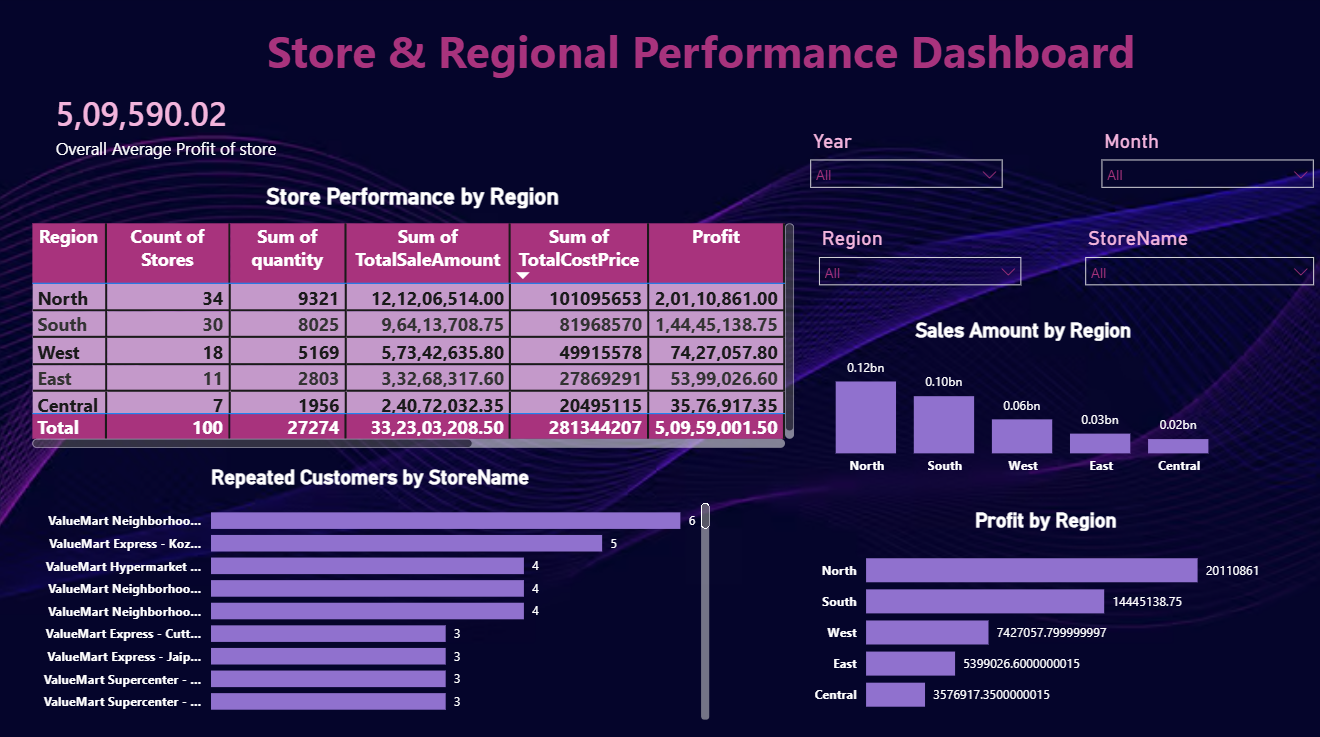

This screenshot's page, from the dashboard's own definition file:
{"tool":"powerbi","page":{"name":"Store Performance","canvas":[1280,720],"ordinal":2},"visuals":[{"type":"tableEx","title":"Store Performance by Region","fields":{"Values":["Dim_Store.Region","Measure Table.Count of Stores","Sum(Fact_Sales.quantity)","Sum(Fact_Sales.TotalSaleAmount)","Sum(Fact_Sales.TotalCostPrice)","Measure Table.Profit","Measure Table.Average Profit per Store","Measure Table.Variance %","Measure Table.Performace of stores","Measure Table.Profit%"]},"box":[27.8,181.5,746.8,260.2],"z":0},{"type":"textbox","box":[154.9,18.2,1050.5,69],"z":1000},{"type":"cardVisual","fields":{"Data":["Measure Table.Overall Average Profit of store"]},"box":[27.8,70.2,331.6,108.9],"z":2000},{"type":"slicer","fields":{"Values":["Dim_Calender.Year"]},"box":[774.6,124.7,205.8,72.6],"z":3000},{"type":"slicer","fields":{"Values":["Dim_Calender.Month"]},"box":[1055.4,124.7,225.1,69],"z":4000},{"type":"barChart","fields":{"Category":["Dim_Store.StoreName"],"Y":["Measure Table.Repeated Customers"]},"box":[27.5,453.8,665,250],"z":5000},{"type":"slicer","fields":{"Values":["Dim_Store.StoreName"]},"box":[1039.6,217.9,240.8,72.6],"z":6000},{"type":"slicer","fields":{"Values":["Dim_Store.Region"]},"box":[783.1,217.9,215.4,61.7],"z":7000},{"type":"columnChart","title":"Sales Amount by Region","fields":{"Category":["Dim_Store.Region"],"Y":["Sum(Fact_Sales.TotalSaleAmount)"]},"box":[774.6,311,432.1,159.8],"z":8000},{"type":"barChart","fields":{"Category":["Dim_Store.Region"],"Y":["Measure Table.Profit"]},"box":[782.5,495,458.8,208.8],"z":9000}]}

Visuals, with their boxes in screenshot pixels (x1, y1, x2, y2), scaled from the page's 1280x720 canvas onto the 1320x737 screenshot:
"Store Performance by Region" tableEx: region(29, 186, 799, 452)
textbox: region(160, 19, 1243, 89)
cardVisual - Measure Table.Overall Average Profit of store: region(29, 72, 371, 183)
slicer - Dim_Calender.Year: region(799, 128, 1011, 202)
slicer - Dim_Calender.Month: region(1088, 128, 1319, 198)
barChart - Dim_Store.StoreName x Measure Table.Repeated Customers: region(28, 465, 714, 720)
slicer - Dim_Store.StoreName: region(1072, 223, 1319, 297)
slicer - Dim_Store.Region: region(808, 223, 1030, 286)
"Sales Amount by Region" columnChart: region(799, 318, 1244, 482)
barChart - Dim_Store.Region x Measure Table.Profit: region(807, 507, 1280, 720)
